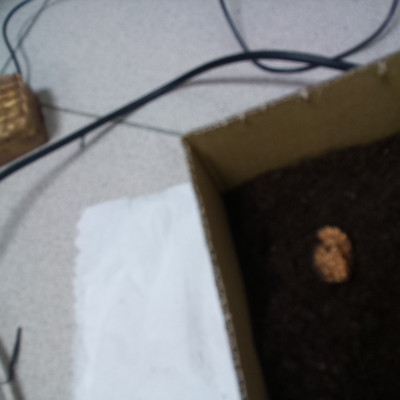eggs: (308, 220, 359, 289)
